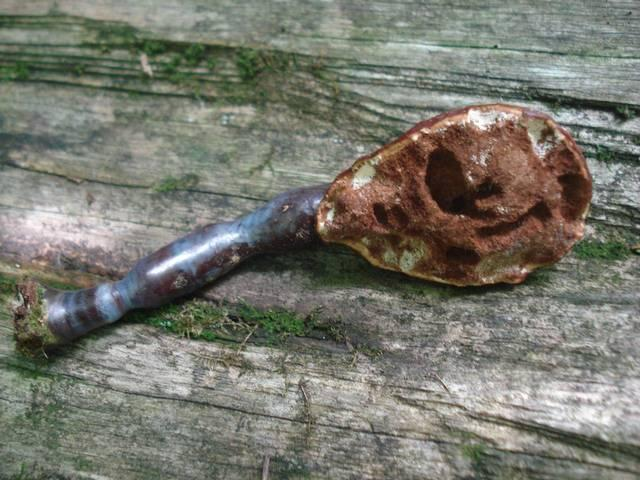Non-edible Mushroom: (34, 100, 594, 349)
